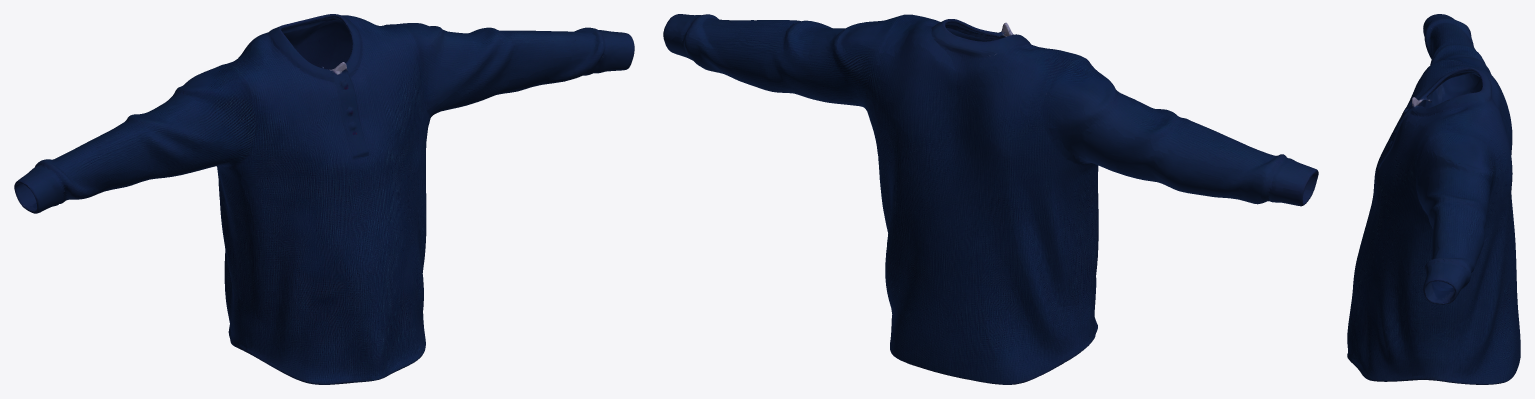
The model's file is f0967cbf-1ba8-4cf8-b1e5-38c4fb253d56-meshy.glb.
The picture shows the model from 3 angles, left to right: view 1: azimuth 30°, elevation 25°; view 2: azimuth 150°, elevation 25°; view 3: azimuth 270°, elevation 25°; orthographic projection. The views are drawn at different scales.
Size of the model in its own units: 1.9 by 0.924 by 0.523.
1 material, 1 textured.
